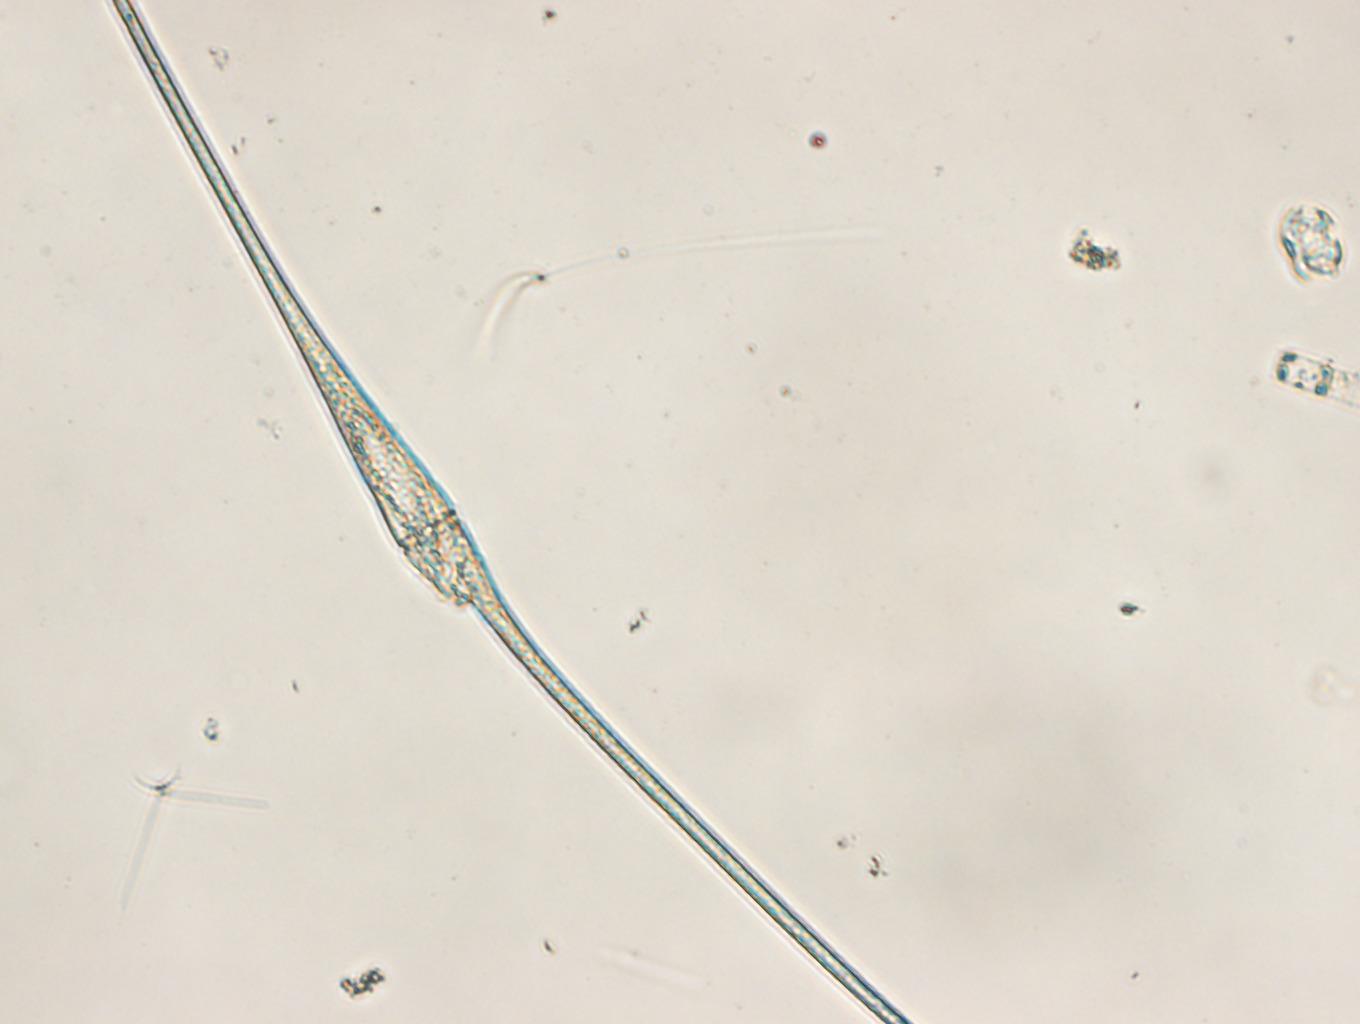ceratium fusus: (108, 1, 908, 1024)
